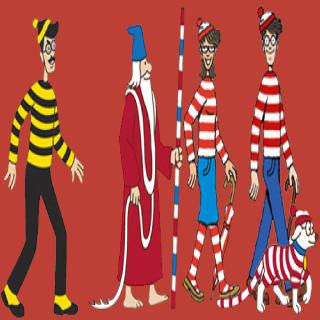Waldo: (256, 4, 284, 85)
